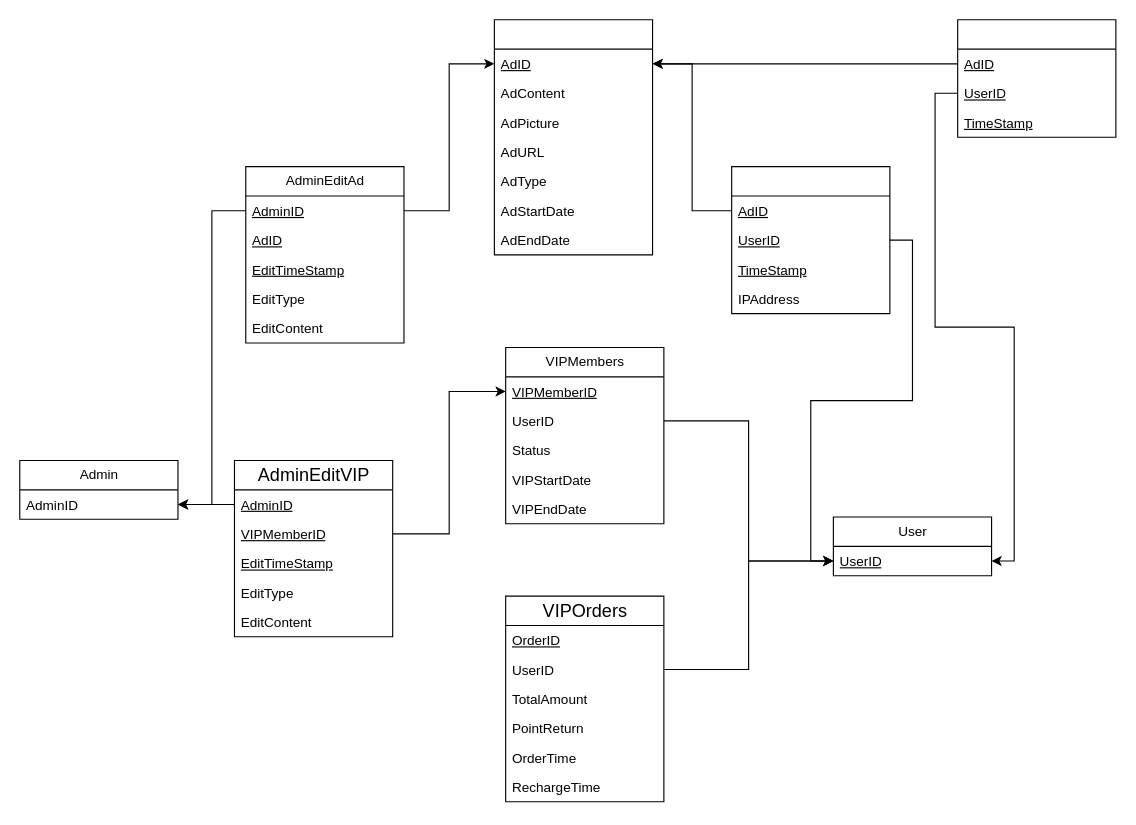
The diagram is 1136 pixels wide and 825 high, and some of its shapes have lost their labels. Here are the shapes that lost their labels. From the top down, the box of each, then its label:
(957, 19, 1116, 137): AdShowStatistics
(493, 19, 653, 255): Advertisements
(731, 166, 890, 314): AdClickStatistics
